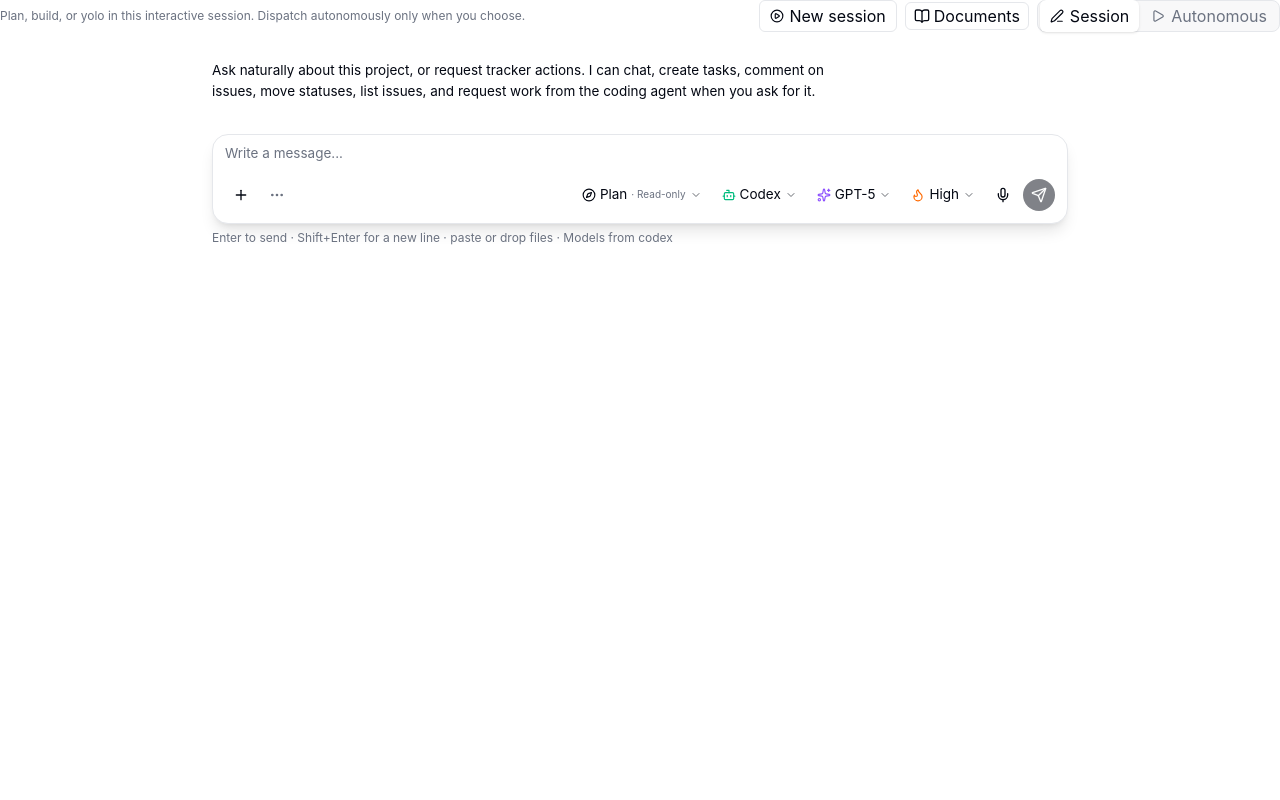
Test case: AgentTabs documents drawer › opens the new session dialog from the quick action button
Click the button "New session": (828, 16) [758,0,897,32]
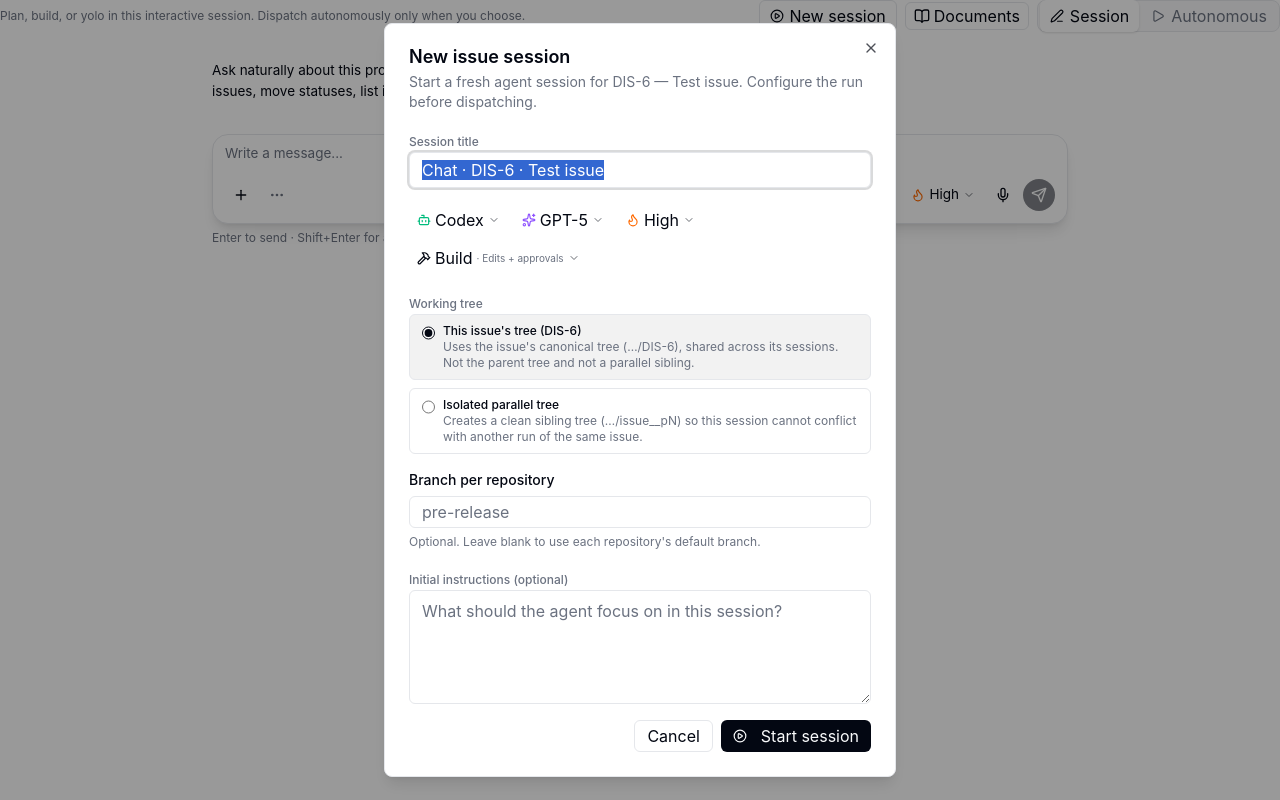
Now the dialog is shown, box [384,23,896,777]
Now the text "DIS-6" is shown, box [409,73,863,110]
Now the icon with test id "execution-mode-icon-build" is shown, box [417,251,431,265]
